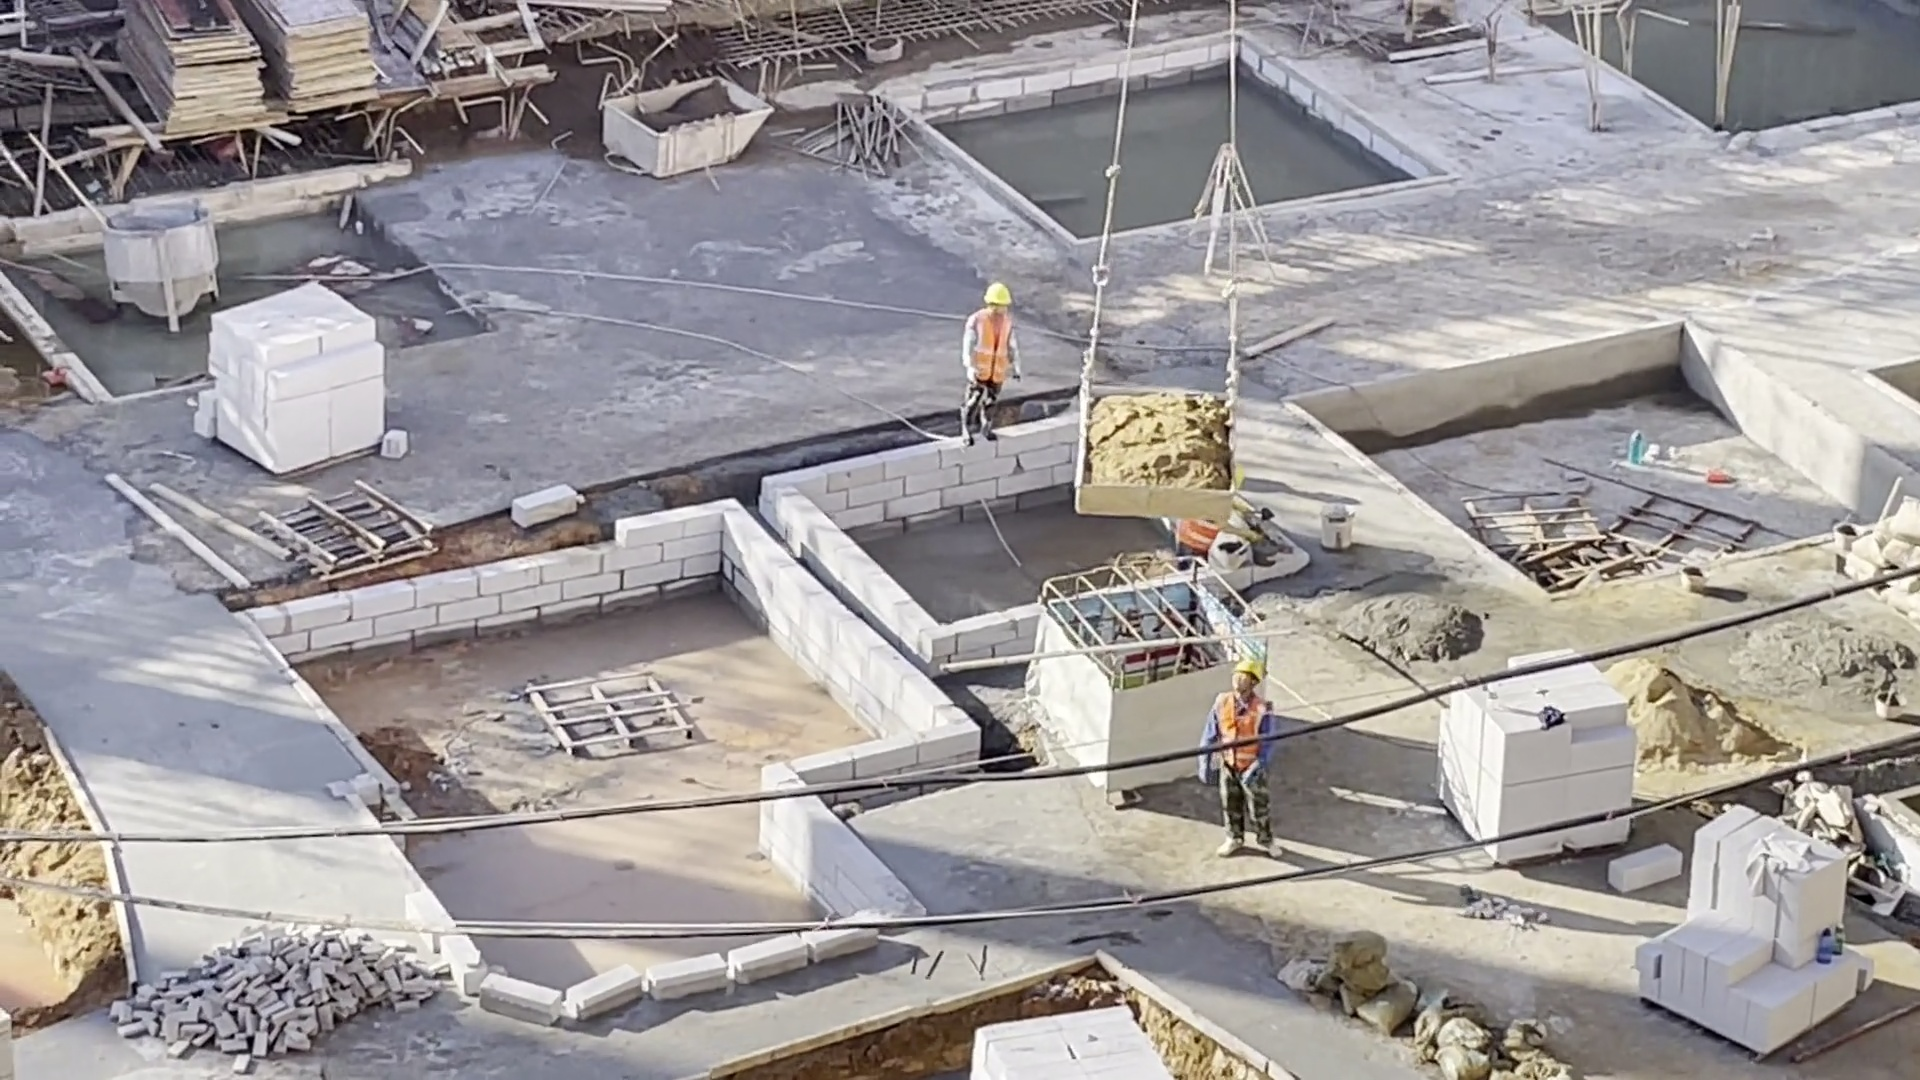board: (99, 1, 269, 135), (247, 4, 385, 117)
brick: (1634, 797, 1878, 1060), (182, 276, 409, 479), (1423, 701, 1646, 805), (960, 1000, 1180, 1080)
helmet: (981, 285, 1017, 312), (1234, 656, 1266, 685)
hopper: (1065, 390, 1241, 522), (592, 71, 776, 178), (100, 201, 224, 337)
person: (1195, 656, 1288, 861), (954, 282, 1026, 448)
vest: (966, 310, 1017, 383), (1208, 692, 1271, 738)
